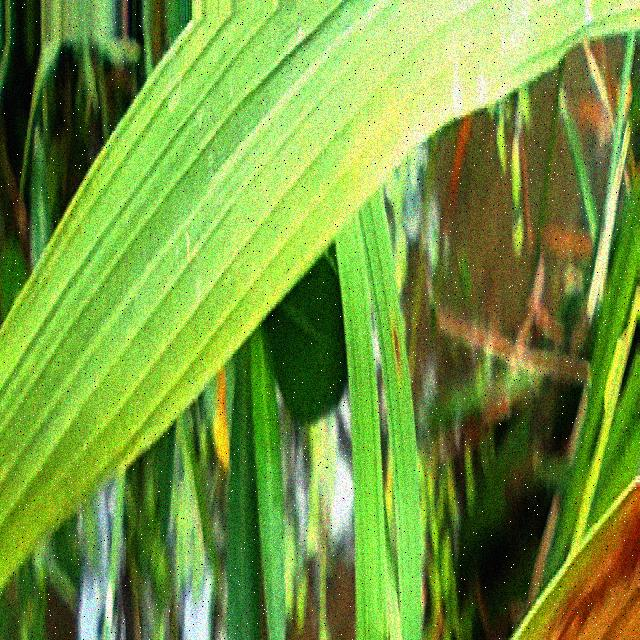NBS: (578, 511, 640, 633), (556, 600, 583, 640)
